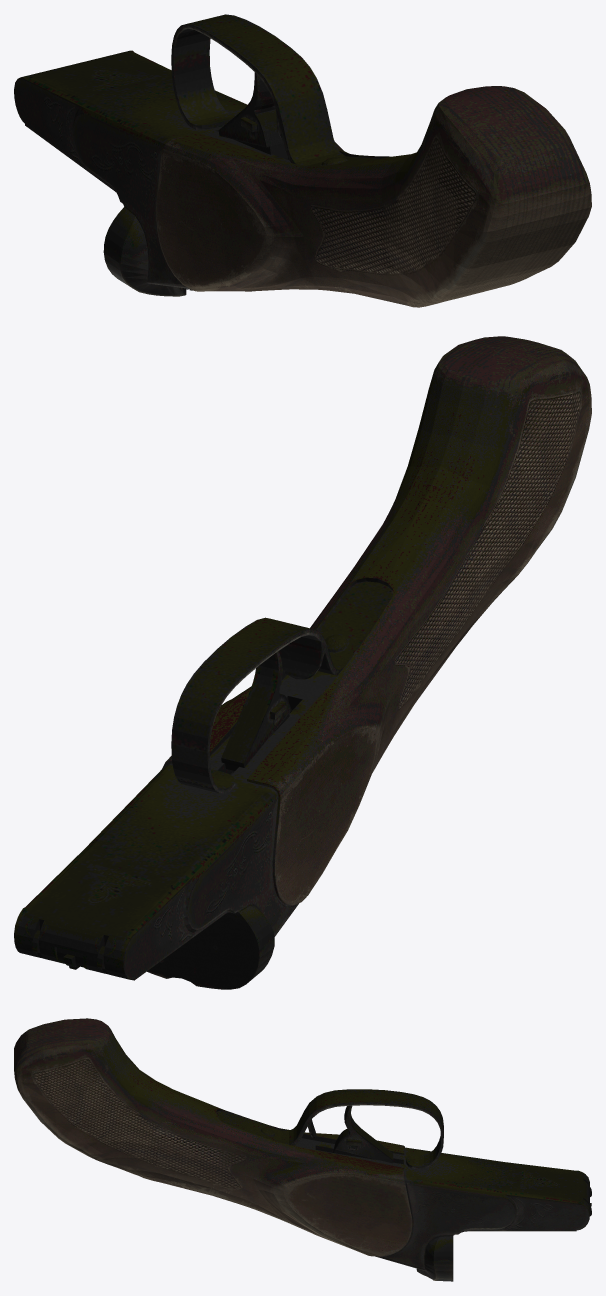
3 renders of one model, top to bottom at view 1: azimuth 30°, elevation 25°; view 2: azimuth 150°, elevation 25°; view 3: azimuth 270°, elevation 25°, orthographic. The views are drawn at different scales.
Parts seen in each view (by area): view 1: TW_64748cb8de82c85eaf0a273a_PZ_Import; view 2: TW_64748cb8de82c85eaf0a273a_PZ_Import; view 3: TW_64748cb8de82c85eaf0a273a_PZ_Import.
Boxes of the visible parts, bbox=[...] form: TW_64748cb8de82c85eaf0a273a_PZ_Import: bbox=[14, 14, 591, 307]; TW_64748cb8de82c85eaf0a273a_PZ_Import: bbox=[14, 336, 591, 989]; TW_64748cb8de82c85eaf0a273a_PZ_Import: bbox=[14, 1018, 591, 1281].
Bounding box in the file's own units: 0.033 × 0.175 × 0.081.
Materials: 1 (1 with a texture image).
